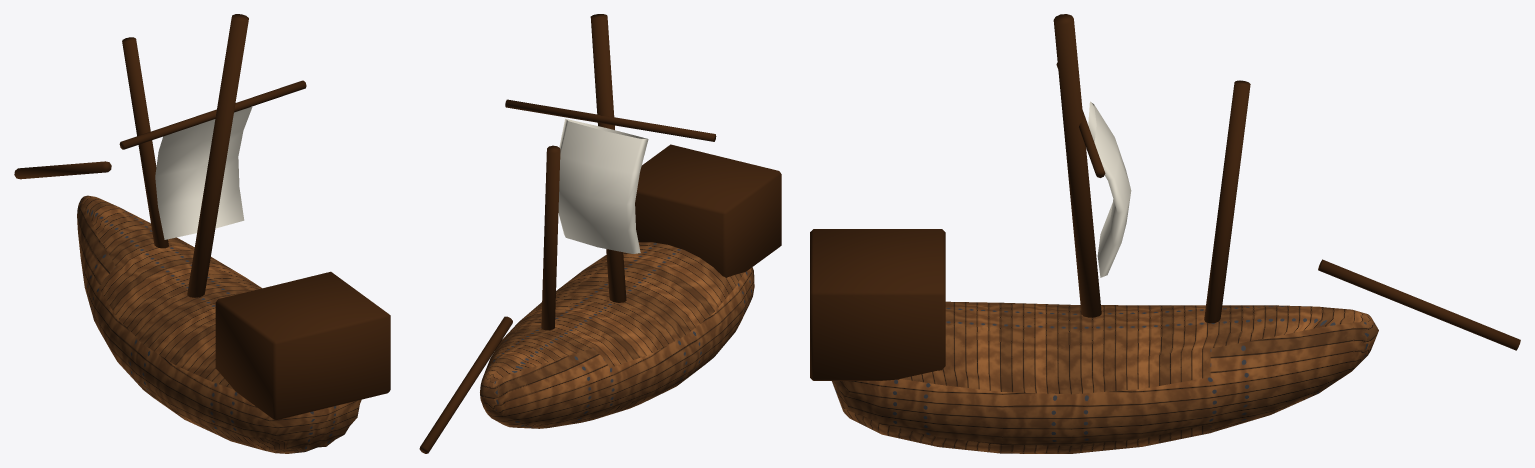
Rendered from prop_pirate_ship.glb.
3 renders of one model, left to right at view 1: azimuth 30°, elevation 25°; view 2: azimuth 150°, elevation 25°; view 3: azimuth 270°, elevation 25°, orthographic. The views are drawn at different scales.
Visible parts, largest first — view 1: PirateHull; view 2: PirateHull; view 3: PirateHull.
Boxes of the visible parts, x1=… form: PirateHull: x1=14, y1=14, x2=390, y2=453; PirateHull: x1=419, y1=14, x2=781, y2=453; PirateHull: x1=810, y1=14, x2=1520, y2=453.
Size of the model in its own units: 11.54 by 21.12 by 31.5.
Materials: 3 (2 with a texture image).
